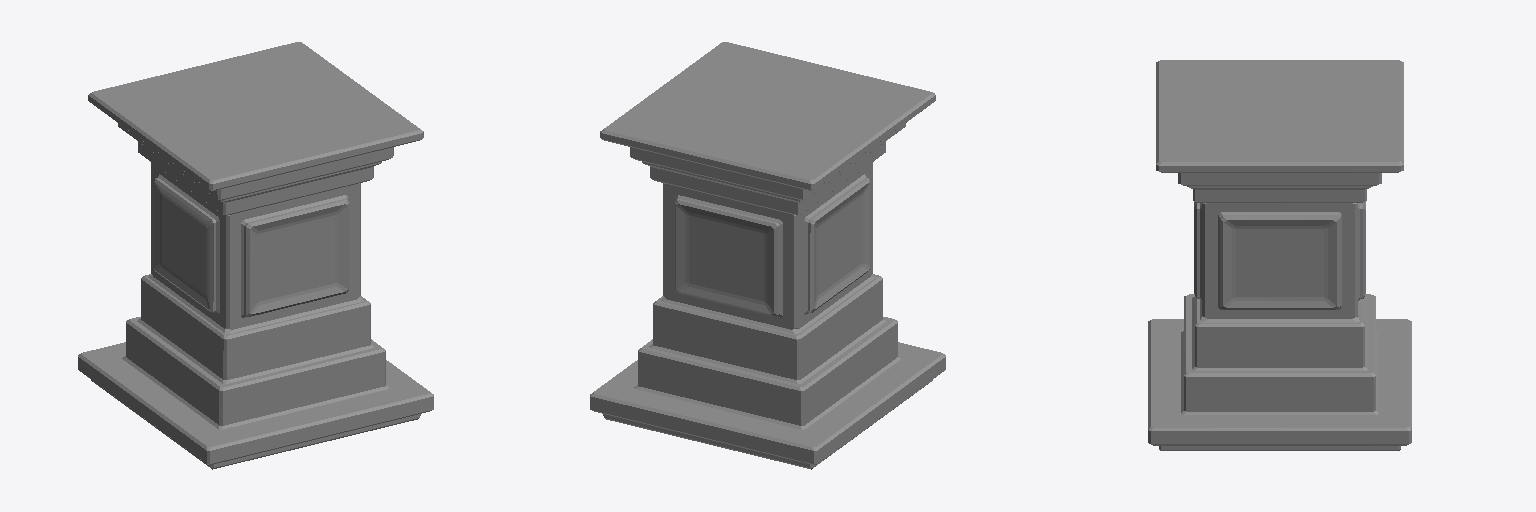
The model's file is pedestal.obj.
3 views of the same model, side by side, from view 1: azimuth 30°, elevation 25°; view 2: azimuth 150°, elevation 25°; view 3: azimuth 270°, elevation 25° (orthographic).
Visible parts, largest first — view 1: Pedestal_Untitled; view 2: Pedestal_Untitled; view 3: Pedestal_Untitled.
Part boxes in pixels (x1,y1,x2,y2): Pedestal_Untitled: (78,42,433,469); Pedestal_Untitled: (590,42,945,469); Pedestal_Untitled: (1148,60,1411,450).
Bounding box in the file's own units: 0.094 × 0.1143 × 0.094.